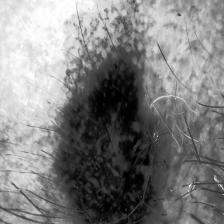Benign Marking or Mole: (55, 0, 164, 224)
